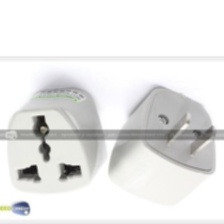three_eye_plug: (105, 83, 220, 208), (4, 85, 108, 198)
